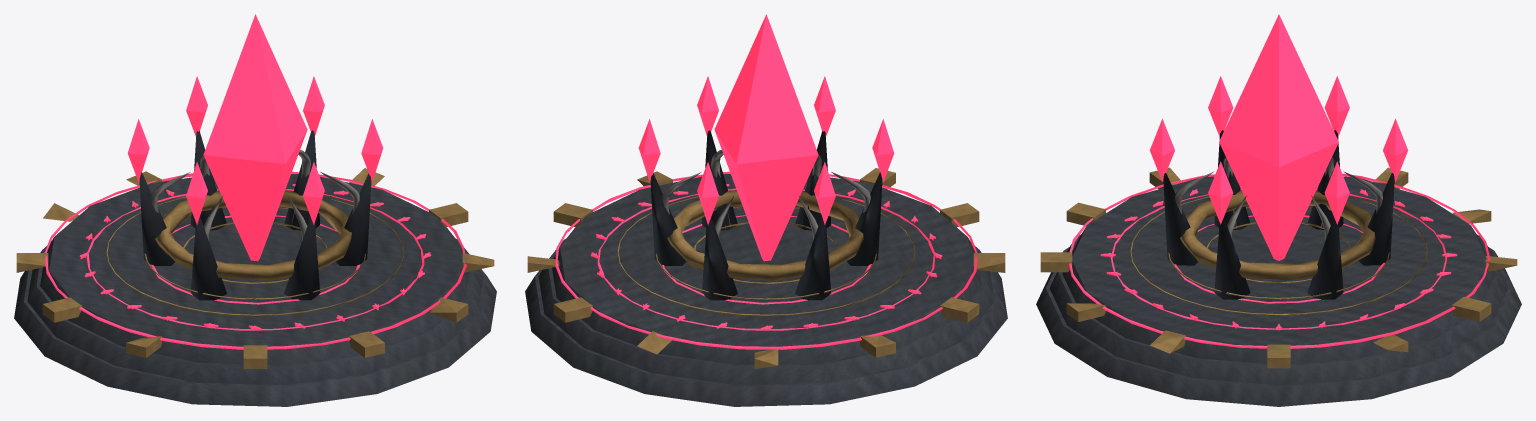
File: red_core.gltf
The picture shows the model from 3 angles, left to right: view 1: azimuth 30°, elevation 25°; view 2: azimuth 150°, elevation 25°; view 3: azimuth 270°, elevation 25°; orthographic projection.
Parts seen in each view (by area): view 1: red_core, red_core__crystal; view 2: red_core, red_core__crystal; view 3: red_core, red_core__crystal.
Boxes of the visible parts, x1,y1,x2,y2 form: red_core: [14, 76, 496, 406]; red_core__crystal: [203, 14, 307, 261]; red_core: [525, 76, 1007, 406]; red_core__crystal: [714, 14, 818, 261]; red_core: [1036, 76, 1521, 406]; red_core__crystal: [1219, 14, 1338, 260].
Size of the model in its own units: 6.88 by 4.53 by 6.88.
Materials: 4 (2 with a texture image).
